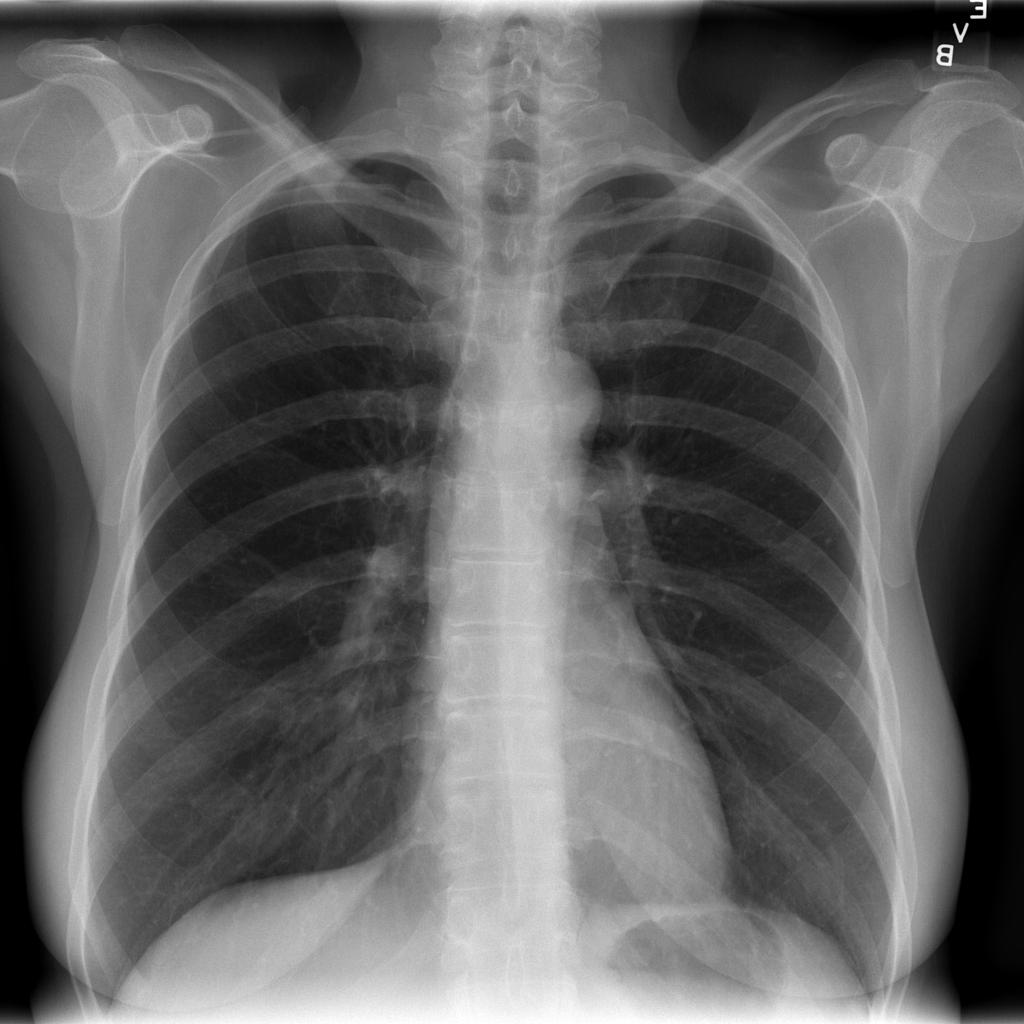nodule: (803, 637, 872, 707)
